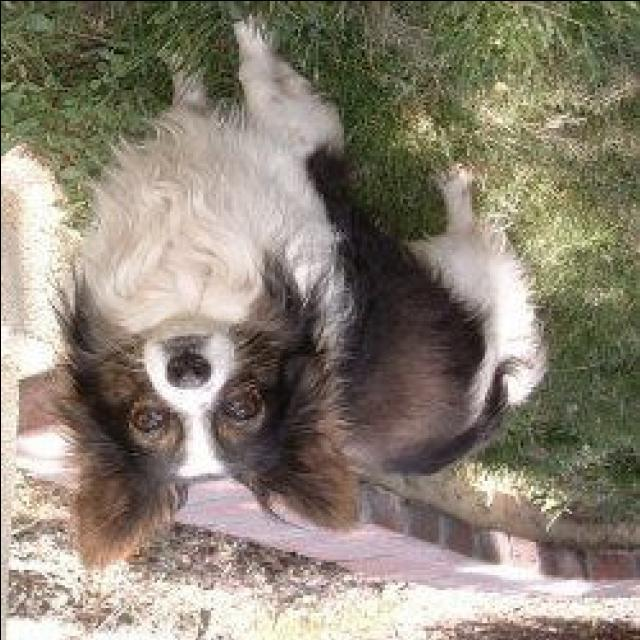papillon: (44, 13, 558, 571)
